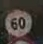limite 60: (3, 7, 34, 38)
